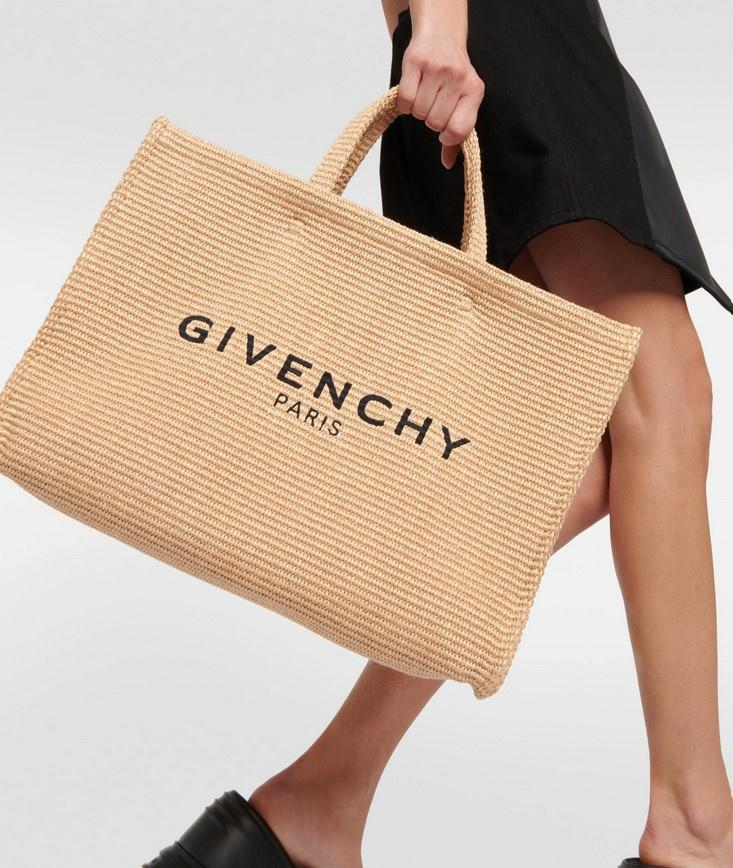GIVENCHY: (168, 283, 493, 501)
